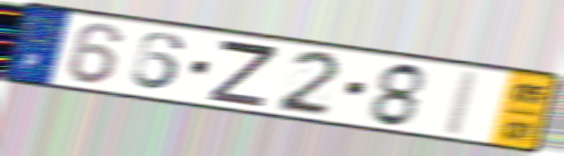2: (276, 49, 344, 119)
6: (63, 20, 127, 85), (130, 31, 187, 93)
8: (368, 59, 429, 130)
I: (439, 67, 485, 138)
Z: (206, 37, 281, 110)
